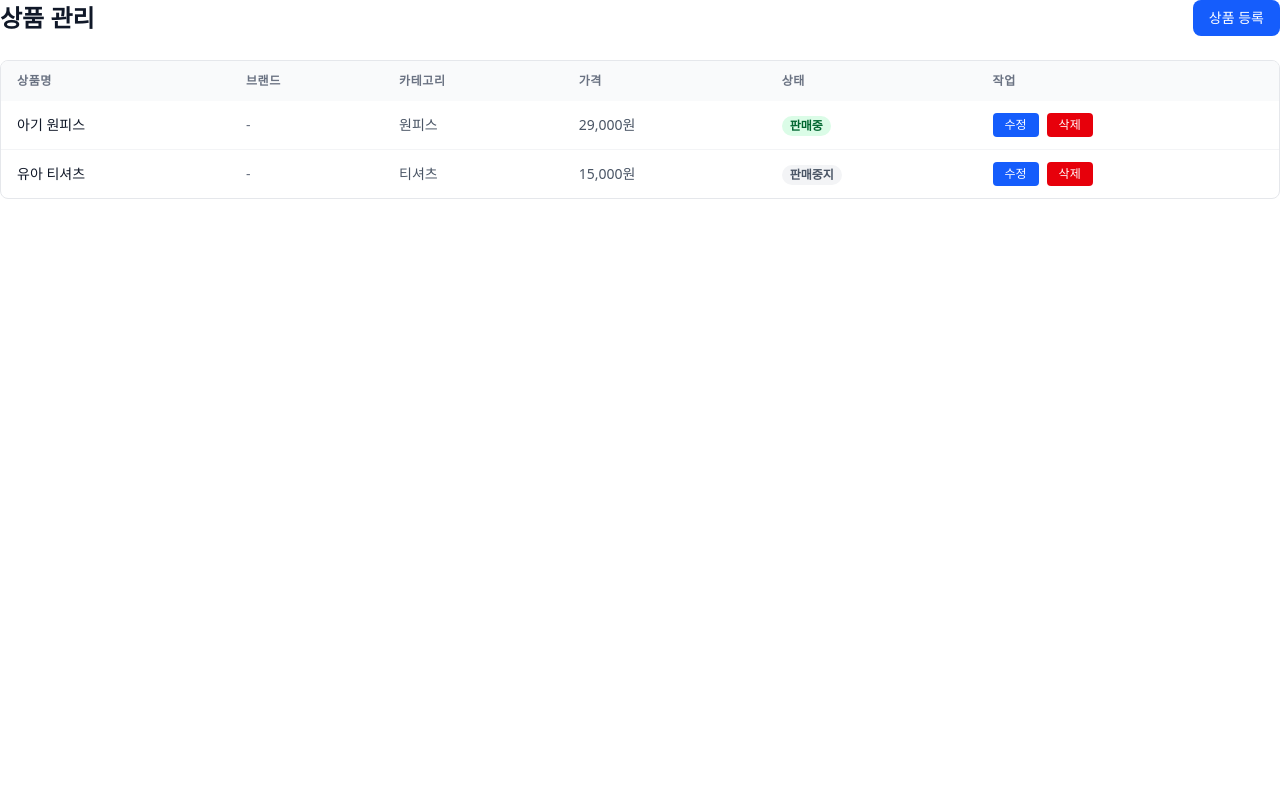
Test: AdminProductsPage › 상품 등록 폼 › 카테고리를 선택하지 않으면 유효성 오류를 표시한다
Click the button "상품 등록".
click(1236, 18)  # box [1193,0,1279,36]
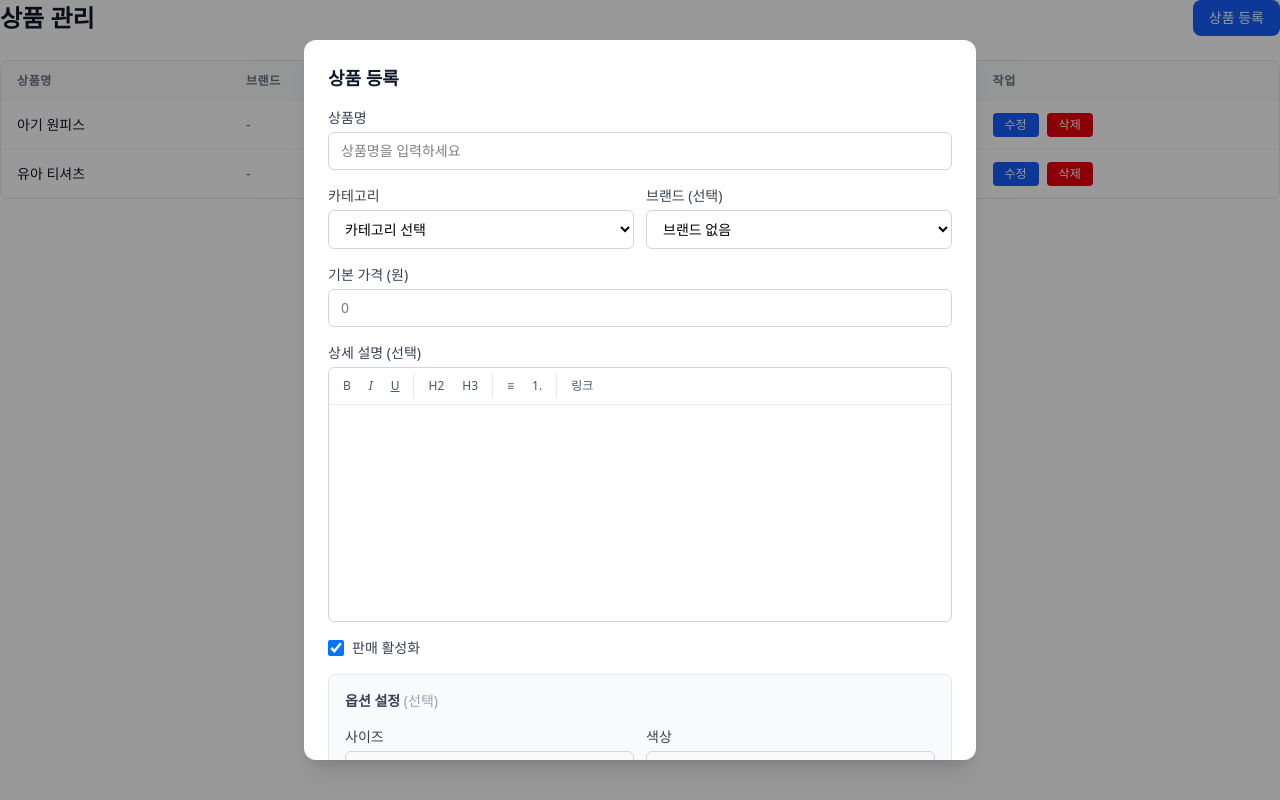
Type "테스트 상품" into the field labelled "상품명".
click(640, 151); type("테스트 상품")  # box [328,132,952,170]
(page scrolled)
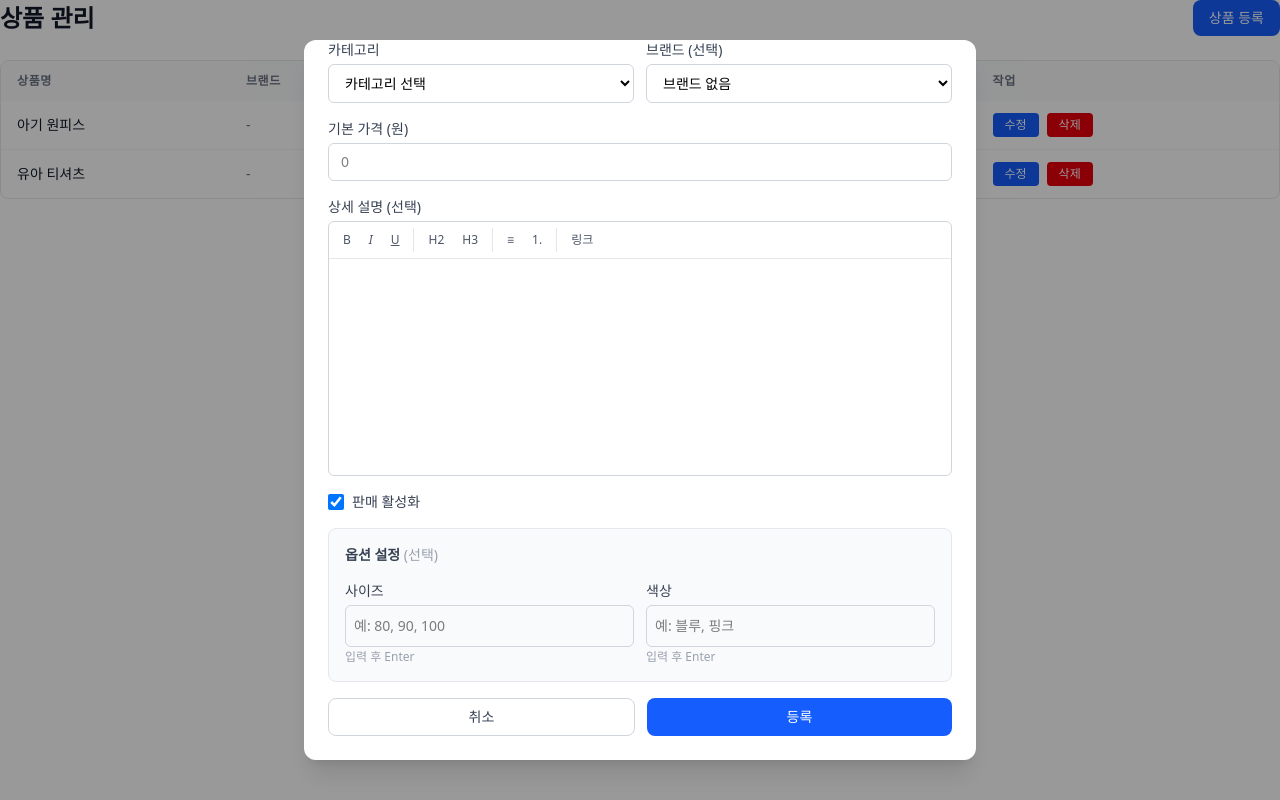
Click the button "등록".
click(800, 717)  # box [647,698,952,736]
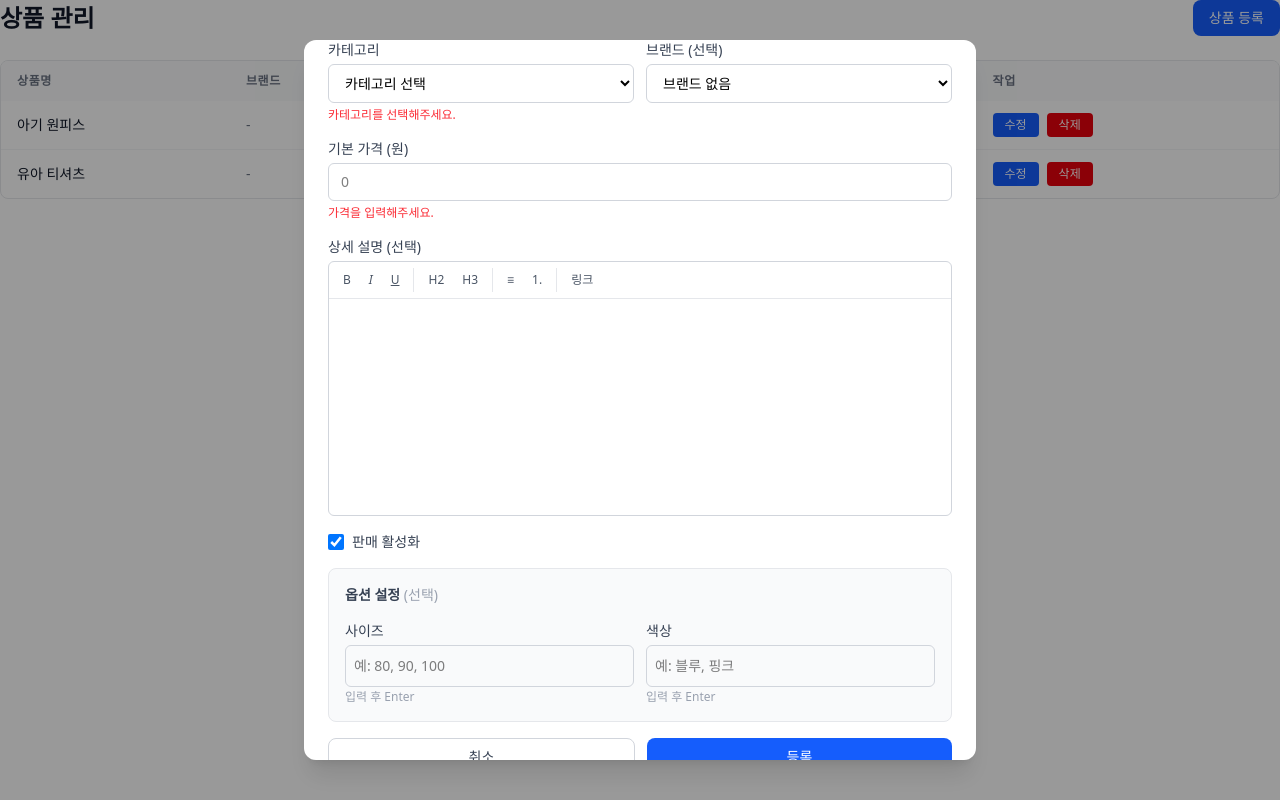
Now the text "카테고리를 선택해주세요." is shown, box [328,106,456,123]
